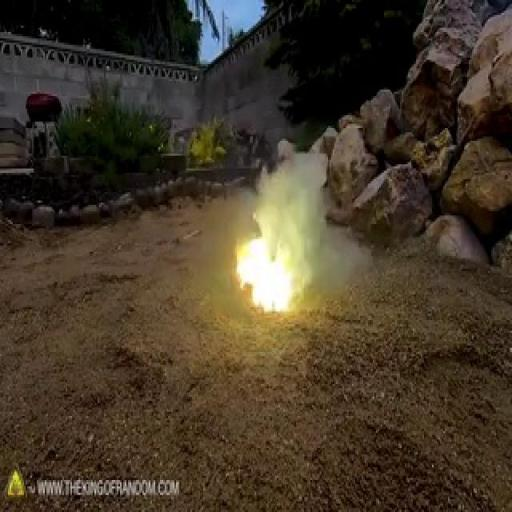smoke: (226, 188, 290, 318)
